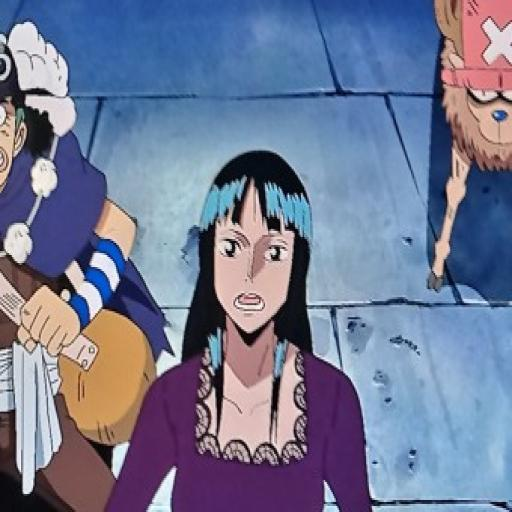NicoRobin: (178, 139, 324, 380)
